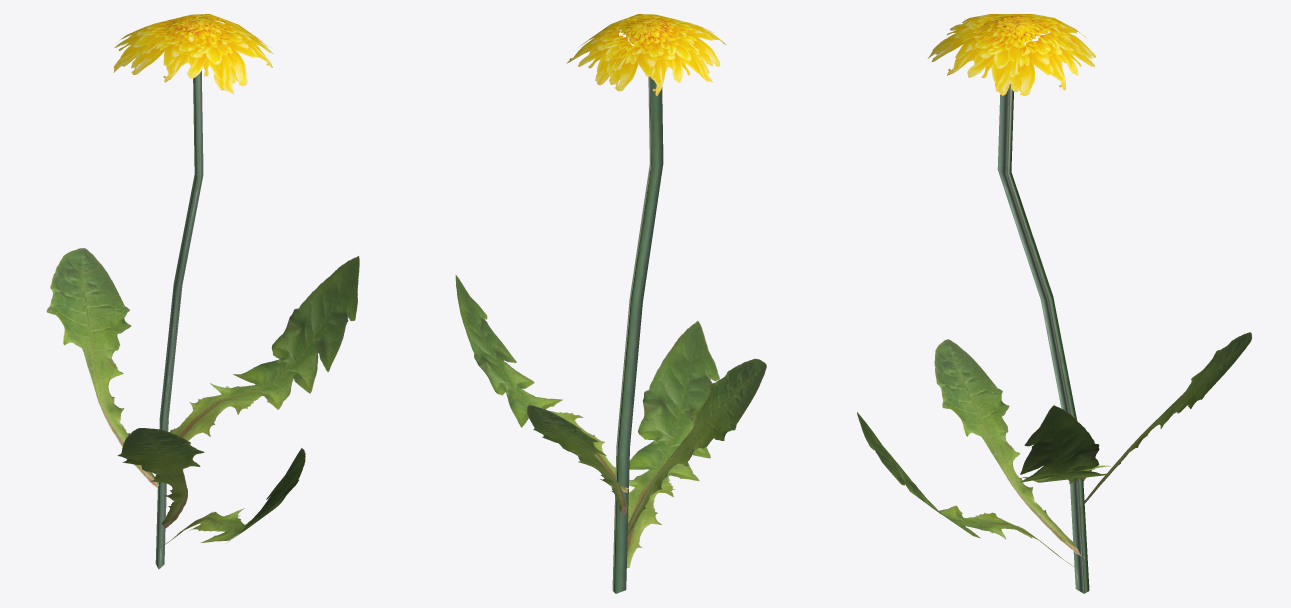
Rendered from Pissenlit01.fbx.
3 views of the same model, side by side, from view 1: azimuth 30°, elevation 25°; view 2: azimuth 150°, elevation 25°; view 3: azimuth 270°, elevation 25° (orthographic). The views are drawn at different scales.
Visible parts, largest first — view 1: pPlane77; view 2: pPlane77; view 3: pPlane77.
Part boxes in pixels (<box>): pPlane77: <box>46,14,359,569</box>; pPlane77: <box>455,14,766,593</box>; pPlane77: <box>857,14,1252,593</box>.
Bounding box in the file's own units: 0.1522 × 0.2527 × 0.1799.
1 material, 1 textured.
